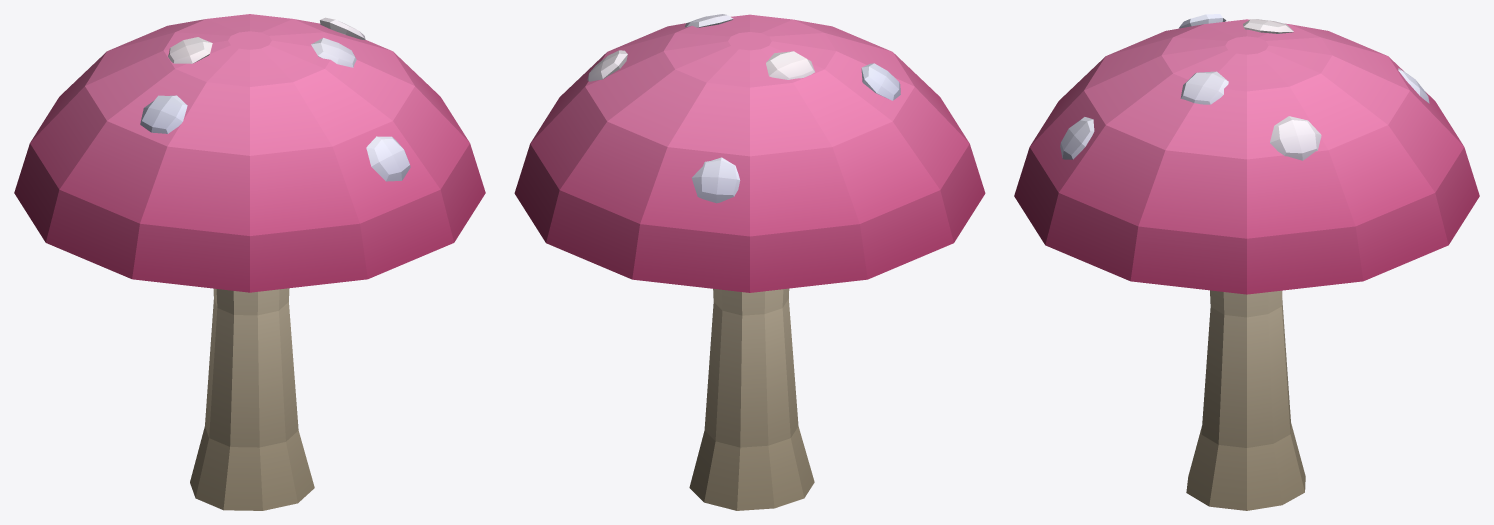
The model's file is PlayGround_Kit_Tree_Mushroom.fbx.
3 renders of one model, left to right at view 1: azimuth 30°, elevation 25°; view 2: azimuth 150°, elevation 25°; view 3: azimuth 270°, elevation 25°, orthographic.
Parts seen in each view (by area): view 1: PlayGround_Kit_Tree_Mushroom; view 2: PlayGround_Kit_Tree_Mushroom; view 3: PlayGround_Kit_Tree_Mushroom.
Part boxes in pixels (x1,y1,x2,y2): PlayGround_Kit_Tree_Mushroom: (14, 14, 485, 510); PlayGround_Kit_Tree_Mushroom: (514, 14, 985, 510); PlayGround_Kit_Tree_Mushroom: (1014, 14, 1479, 510).
Size of the model in its own units: 3 by 3.14 by 3.
